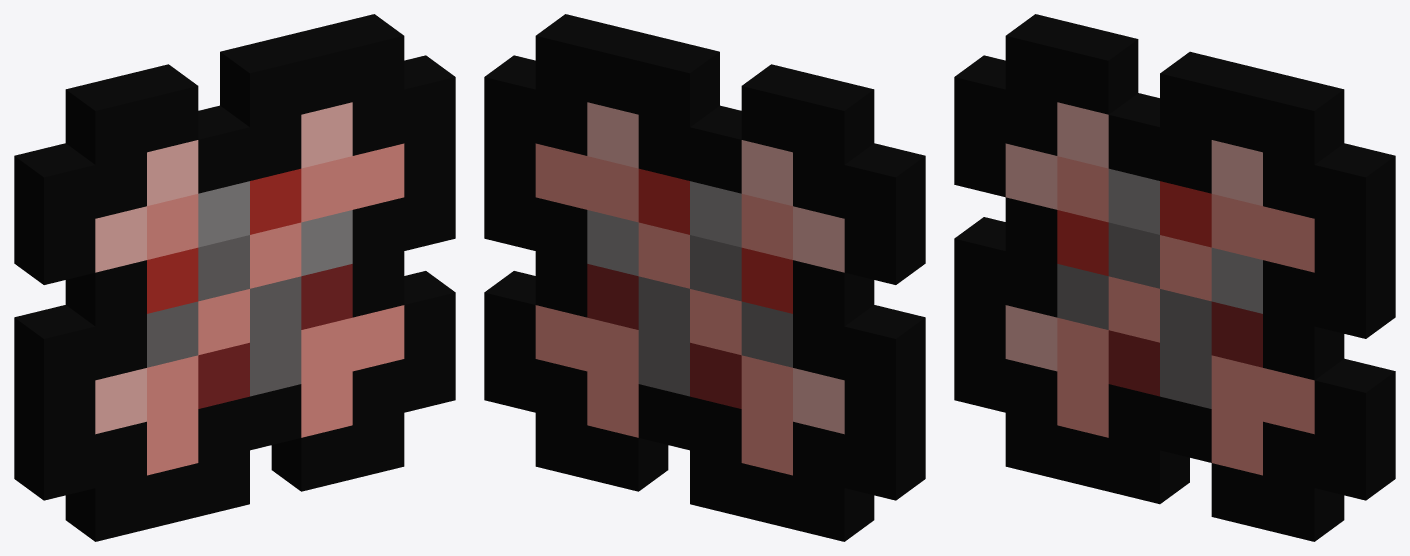
The model's file is Blinding Pebble.glb.
3 views of the same model, side by side, from view 1: azimuth 30°, elevation 25°; view 2: azimuth 150°, elevation 25°; view 3: azimuth 330°, elevation 25° (orthographic).
Visible parts, largest first — view 1: generated(Clone); view 2: generated(Clone); view 3: generated(Clone).
Boxes of the visible parts, x1,y1,x2,y2 form: generated(Clone): (14,14,455,541); generated(Clone): (484,14,925,541); generated(Clone): (954,14,1395,541).
Size of the model in its own units: 8 by 8 by 1.
1 material, 1 textured.
